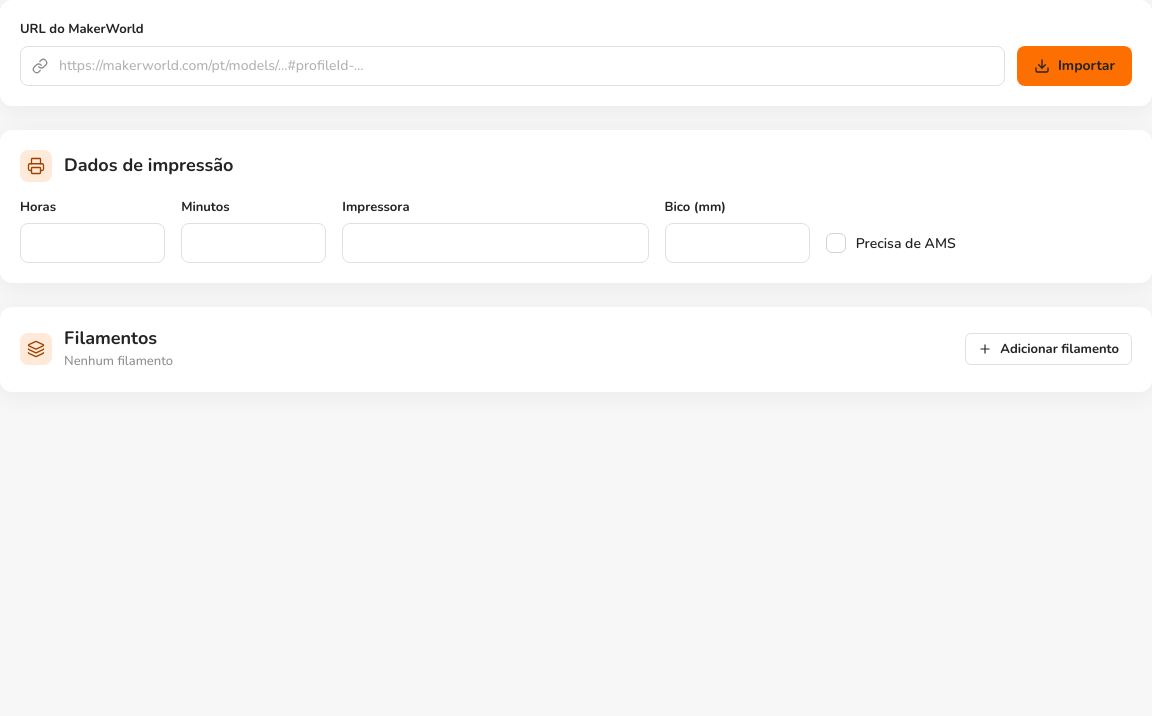
Test: PrintProfileImport › switches profile without refetch
Type "https://makerworld.com/pt/models/3007827-sea-animals-set?from=recommend#profileId-3387944" into the field labelled "URL do MakerWorld". click: (512, 66)
box: left=20, top=46, right=1005, bottom=86
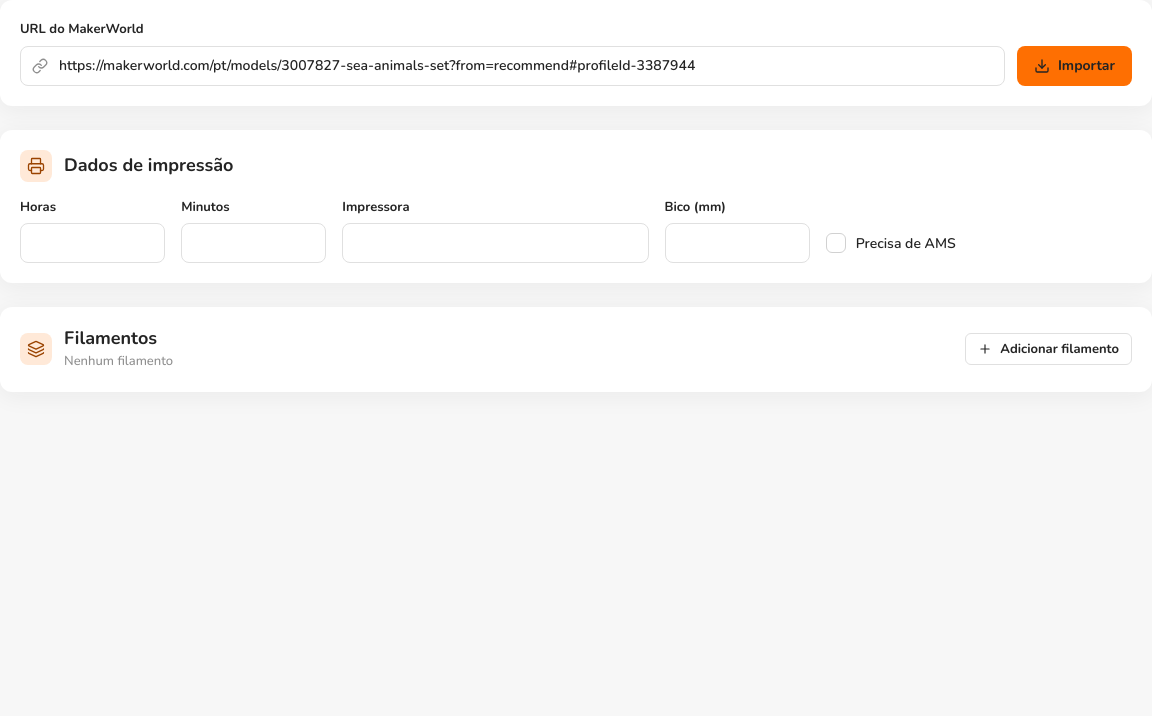
Click the button "Importar". click: (1074, 66)
box: left=1017, top=46, right=1132, bottom=86
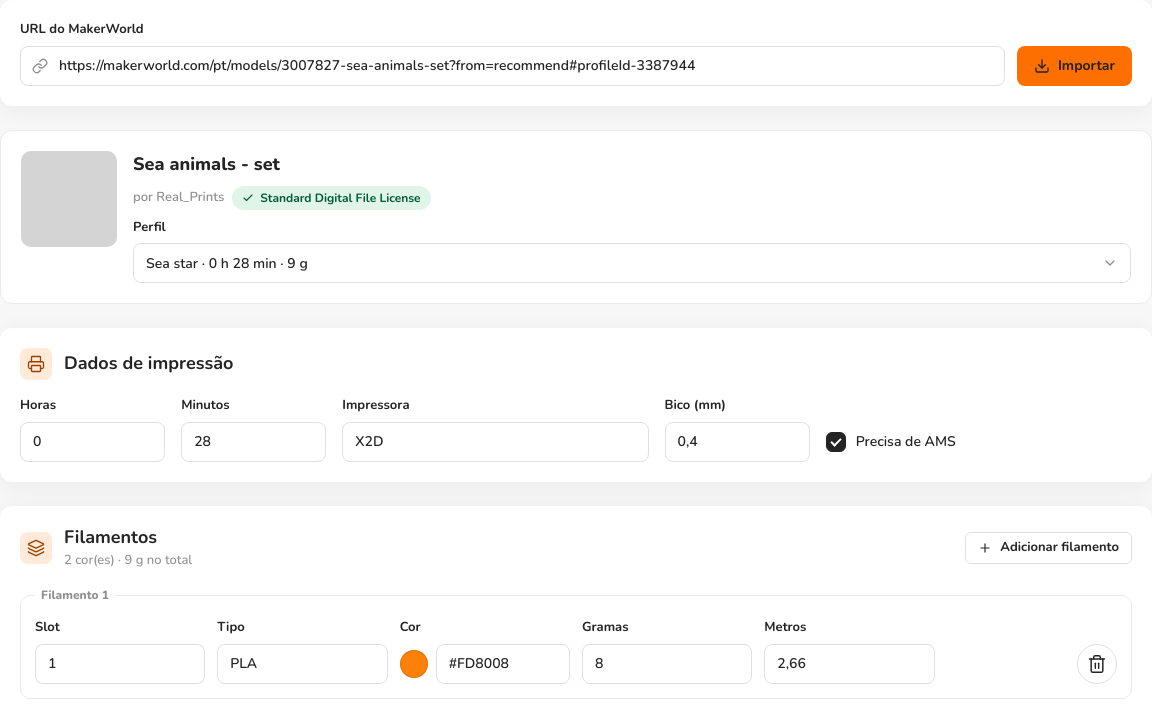
Now the dropdown labelled "Perfil" shows "Sea star · 0 h 28 min · 9 g"
Select "0.2mm layer, 2 walls, 15% infill · 21 h 24 min · 408 g" in the dropdown labelled "Perfil". click: (632, 263)
box: left=133, top=243, right=1131, bottom=283
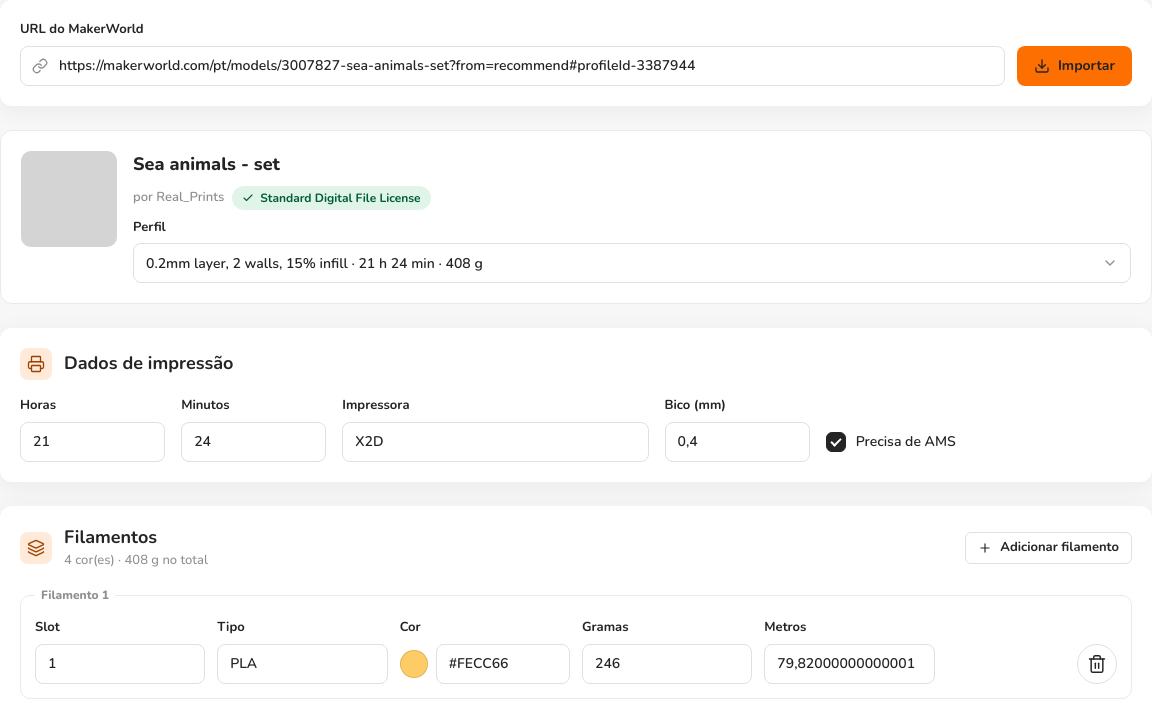
Now the number of elements "Filamento 1 Slot Tipo Cor Gramas Metros" is 4
